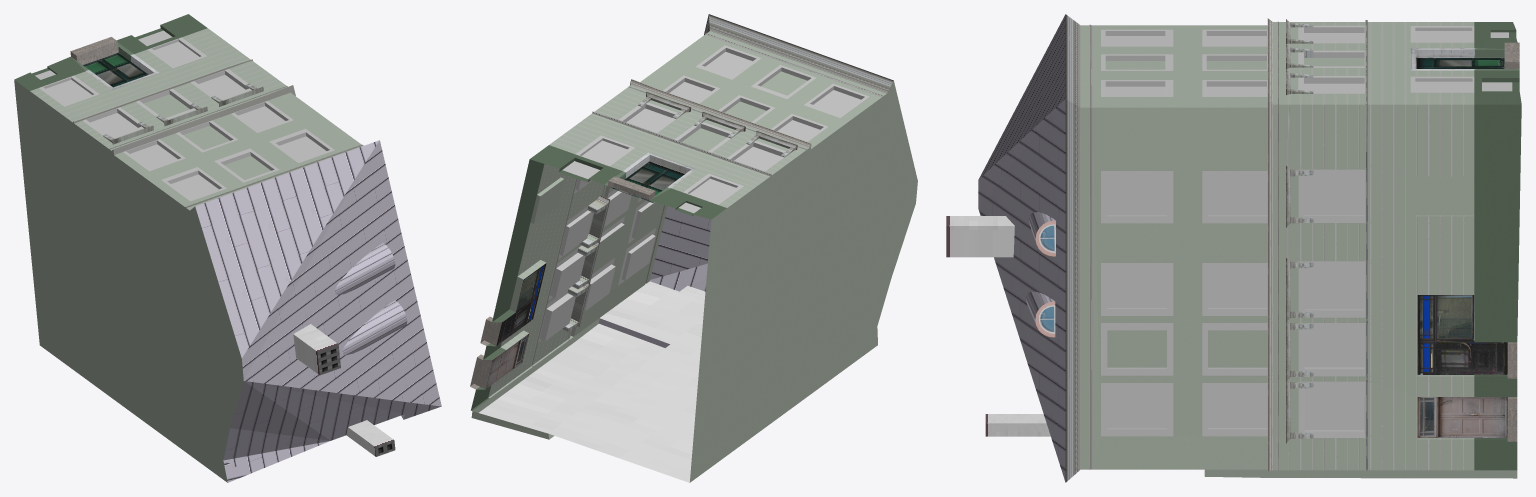
Rendered from Dunkri_1.obj.
3 views of the same model, side by side, from view 1: azimuth 30°, elevation 25°; view 2: azimuth 150°, elevation 25°; view 3: azimuth 270°, elevation 25° (orthographic). The views are drawn at different scales.
Visible parts, largest first — view 1: Dunkri_1; view 2: Dunkri_1; view 3: Dunkri_1.
Boxes of the visible parts, left/top/right/bottom form: Dunkri_1: left=14, top=14, right=441, bottom=482; Dunkri_1: left=470, top=14, right=917, bottom=482; Dunkri_1: left=946, top=14, right=1521, bottom=482.
Bounding box in the file's own units: 11.57 × 13.34 × 18.98.
